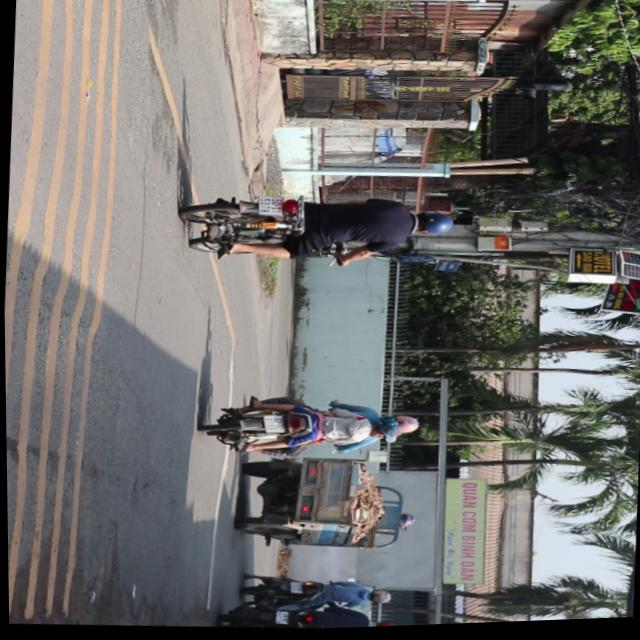helmet: (413, 210, 456, 238), (392, 416, 420, 436)
licenseplate: (178, 181, 459, 275), (199, 387, 424, 466)
motorcyclist: (368, 422, 401, 441)
nohelmet: (258, 197, 284, 217), (262, 416, 284, 435)
